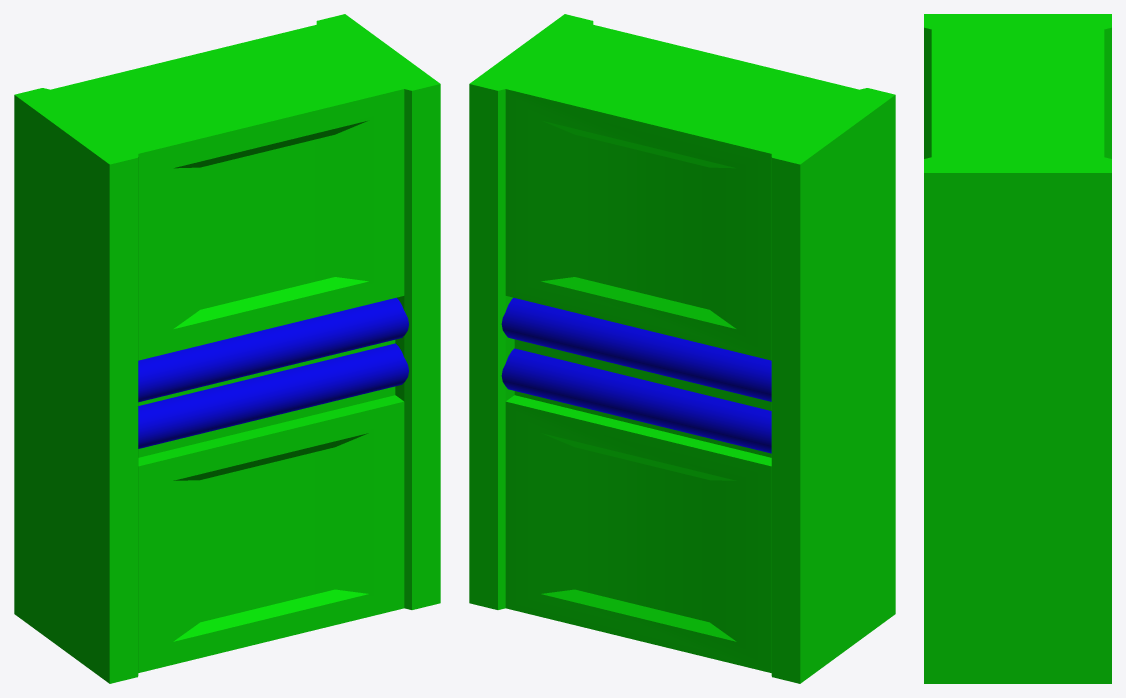
The model's file is SM_HalfWall.fbx.
The picture shows the model from 3 angles, left to right: view 1: azimuth 30°, elevation 25°; view 2: azimuth 150°, elevation 25°; view 3: azimuth 270°, elevation 25°; orthographic projection.
Parts seen in each view (by area): view 1: pCylinder6; view 2: pCylinder6; view 3: pCylinder6.
Part boxes in pixels (left/top/right/bottom): pCylinder6: left=14, top=14, right=440, bottom=683; pCylinder6: left=469, top=14, right=895, bottom=683; pCylinder6: left=924, top=14, right=1111, bottom=683.
Size of the model in its own units: 2 by 3 by 1.
